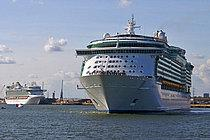Ship: (70, 11, 197, 118)
